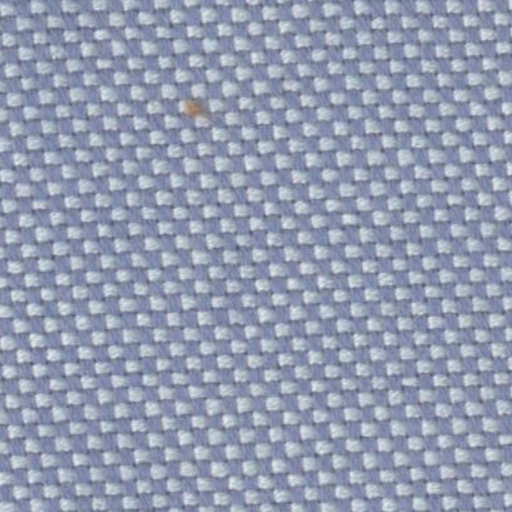WuZi: (164, 74, 228, 135)
